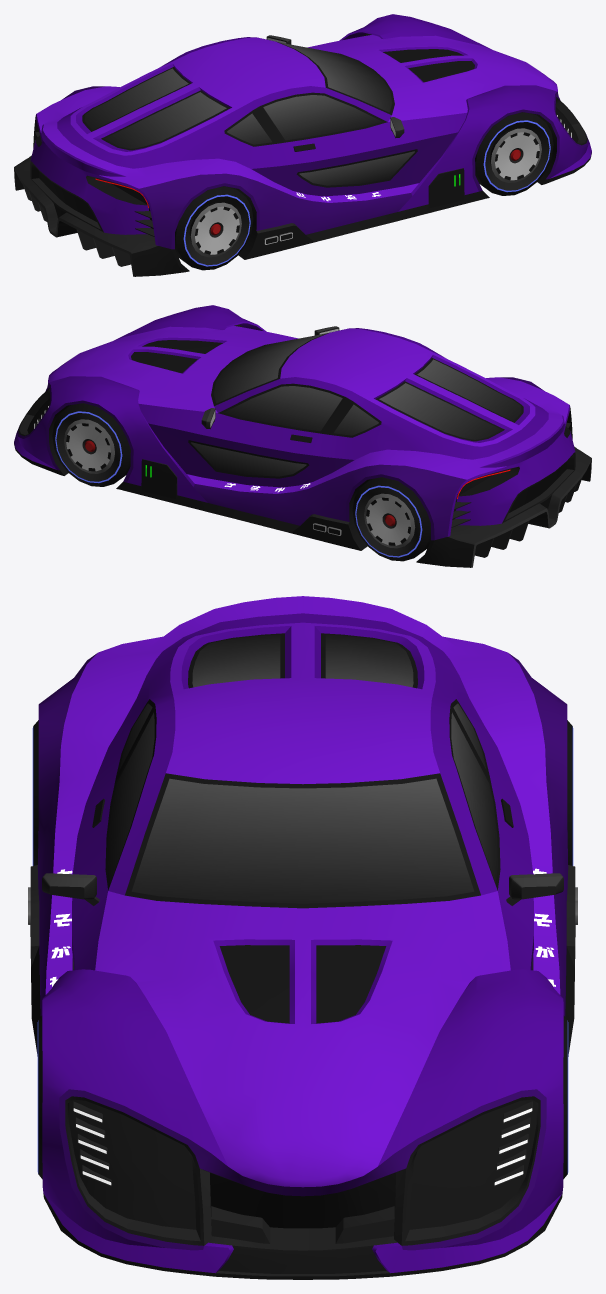
Rendered from Car_092.glb.
3 renders of one model, top to bottom at view 1: azimuth 30°, elevation 25°; view 2: azimuth 150°, elevation 25°; view 3: azimuth 270°, elevation 25°, orthographic. The views are drawn at different scales.
Parts seen in each view (by area): view 1: Car_092, wheel_3_Car_092_Wheel_2R, wheel_1_Car_092_Wheel_1R; view 2: Car_092, wheel_2_Car_092_Wheel_2L, wheel_0_Car_092_Wheel_1L; view 3: Car_092, wheel_2_Car_092_Wheel_2L, wheel_3_Car_092_Wheel_2R, wheel_0_Car_092_Wheel_1L, wheel_1_Car_092_Wheel_1R.
Part boxes in pixels (x1,y1,x2,y2): Car_092: (14,14,591,276); wheel_3_Car_092_Wheel_2R: (175,186,253,270); wheel_1_Car_092_Wheel_1R: (475,112,553,195); Car_092: (14,305,591,567); wheel_2_Car_092_Wheel_2L: (352,477,430,561); wheel_0_Car_092_Wheel_1L: (52,403,130,486); Car_092: (28,596,577,1279); wheel_2_Car_092_Wheel_2L: (567,720,573,865); wheel_3_Car_092_Wheel_2R: (32,720,38,865); wheel_0_Car_092_Wheel_1L: (563,1015,568,1179); wheel_1_Car_092_Wheel_1R: (37,1015,42,1179).
Size of the model in its own units: 4.85 by 1.2 by 2.25.
3 materials, 3 textured.
